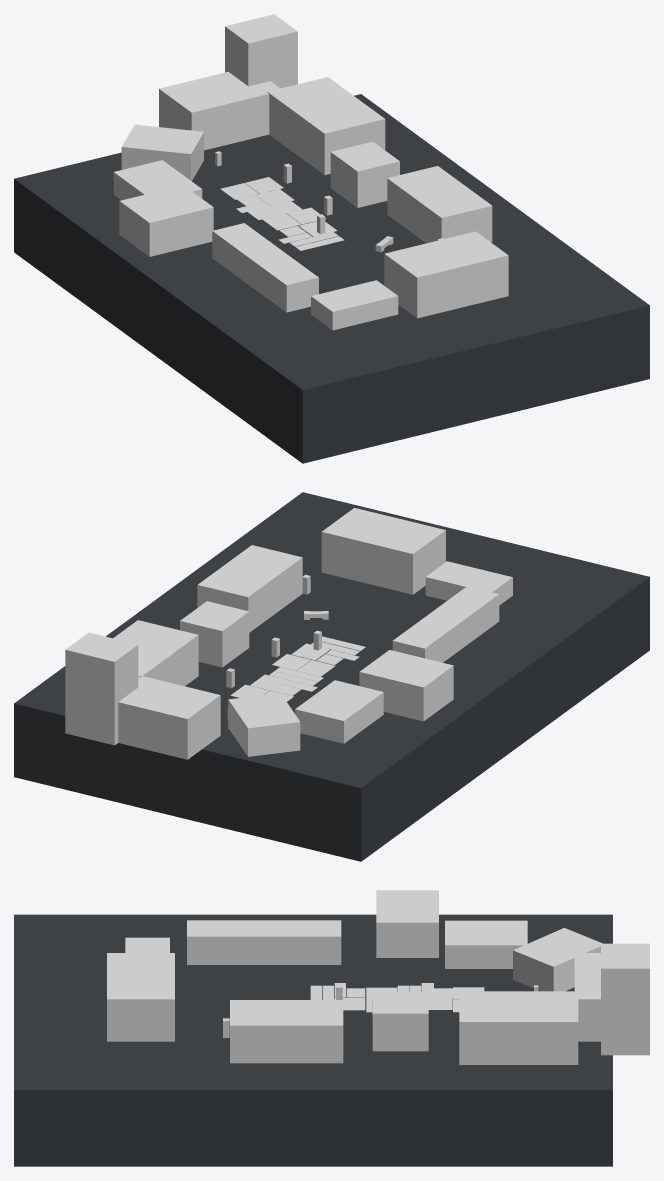
File: Stage.FBX
The picture shows the model from 3 angles, top to bottom: view 1: azimuth 30°, elevation 25°; view 2: azimuth 150°, elevation 25°; view 3: azimuth 270°, elevation 25°; orthographic projection. The views are drawn at different scales.
Visible parts, largest first — view 1: Box001, Box002; view 2: Box001, Box002; view 3: Box001, Box002.
Boxes of the visible parts, x1=… form: Box001: x1=14, y1=94, x2=649, y2=463; Box002: x1=113, y1=14, x2=508, y2=330; Box001: x1=14, y1=492, x2=649, y2=861; Box002: x1=65, y1=508, x2=512, y2=759; Box001: x1=14, y1=914, x2=612, y2=1166; Box002: x1=107, y1=890, x2=649, y2=1064.
Bounding box in the file's own units: 4604 × 7042 × 1992.
2 materials, 2 textured.
